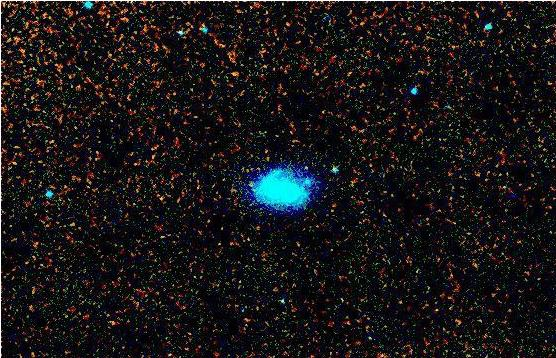star: (237, 166, 267, 196)
